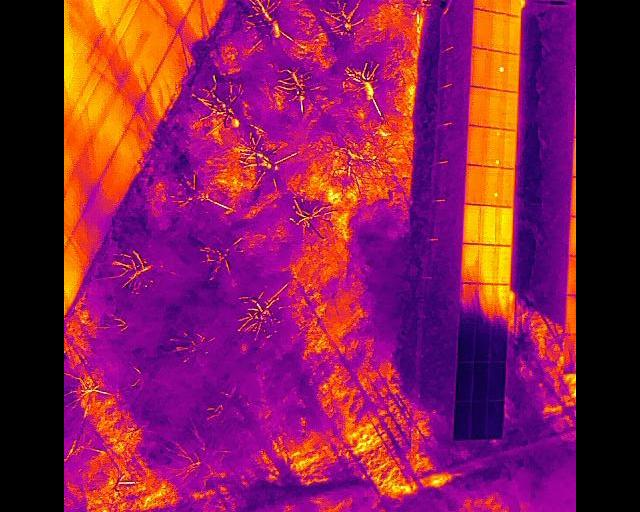Cell: (482, 167, 499, 205), (486, 50, 503, 88)
Cell-Multi: (484, 126, 500, 166)
No-Anomaly: (479, 205, 498, 244), (460, 244, 479, 282), (463, 204, 481, 243), (466, 126, 484, 165), (468, 86, 486, 125), (472, 8, 489, 48), (478, 244, 496, 281), (466, 165, 483, 204), (498, 166, 515, 205), (471, 46, 487, 87), (503, 15, 520, 53), (488, 12, 504, 51), (486, 89, 502, 128), (497, 206, 513, 245), (503, 53, 519, 92), (501, 92, 517, 129), (501, 128, 516, 167), (497, 246, 513, 282), (504, 0, 520, 14), (473, 0, 491, 10), (489, 0, 504, 12)
Shadowing: (458, 317, 477, 360), (454, 360, 472, 402), (477, 318, 494, 362), (460, 243, 479, 282), (472, 361, 490, 402), (490, 362, 508, 402), (454, 402, 472, 439), (471, 401, 489, 438), (461, 281, 479, 317), (478, 283, 496, 319), (495, 318, 510, 361), (490, 402, 504, 438), (497, 282, 510, 318)
